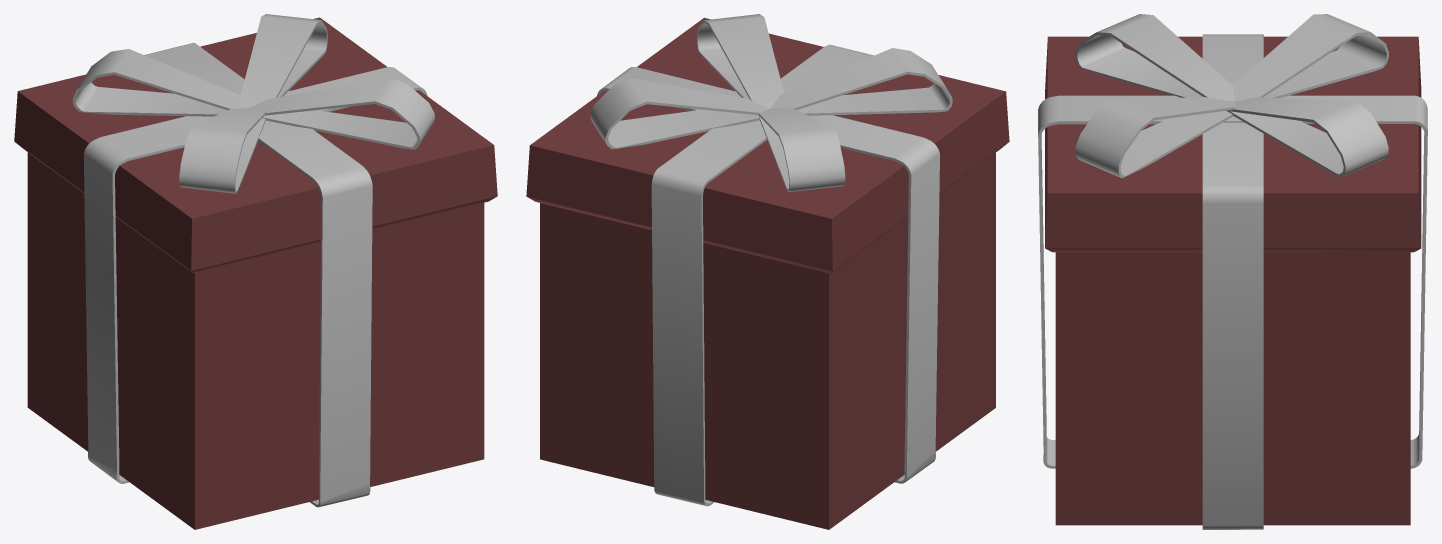
File: gift_01.fbx
The picture shows the model from 3 angles, left to right: view 1: azimuth 30°, elevation 25°; view 2: azimuth 150°, elevation 25°; view 3: azimuth 270°, elevation 25°; orthographic projection. The views are drawn at different scales.
Visible parts, largest first — view 1: gift_01; view 2: gift_01; view 3: gift_01.
Boxes of the visible parts, x1=… form: gift_01: x1=14, y1=14, x2=497, y2=529; gift_01: x1=526, y1=14, x2=1009, y2=529; gift_01: x1=1038, y1=14, x2=1427, y2=529.
Bounding box in the file's own units: 0.2243 × 0.226 × 0.2485.
